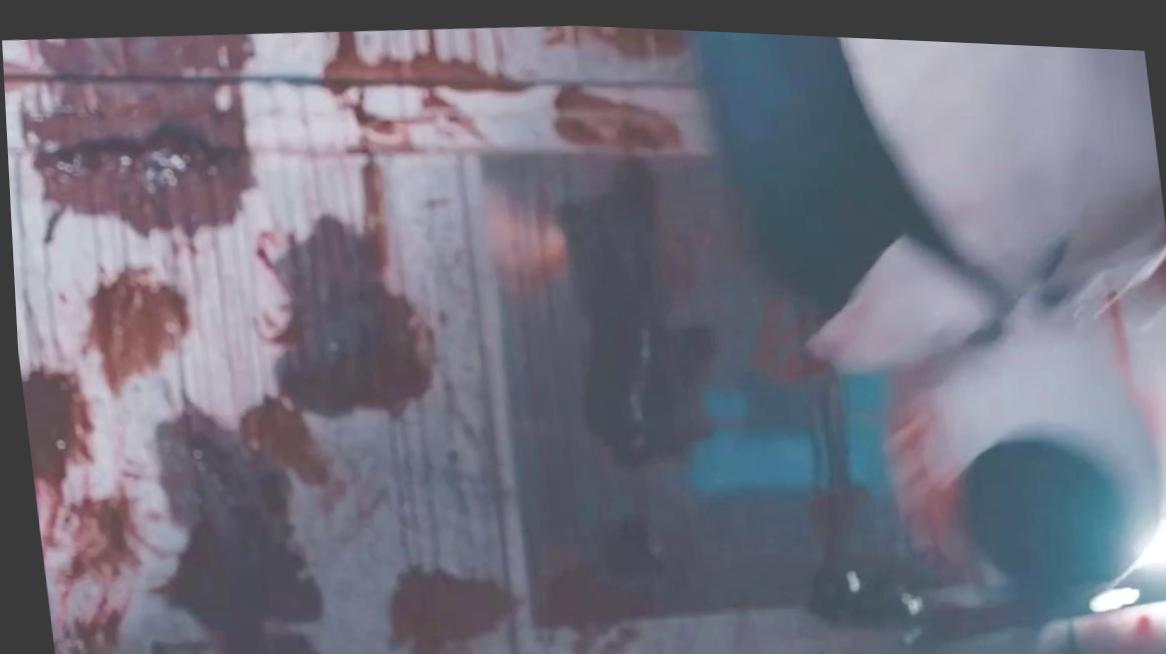Fire: (2, 20, 1066, 654), (1058, 592, 1166, 654), (1105, 289, 1153, 420), (1149, 248, 1166, 281)
